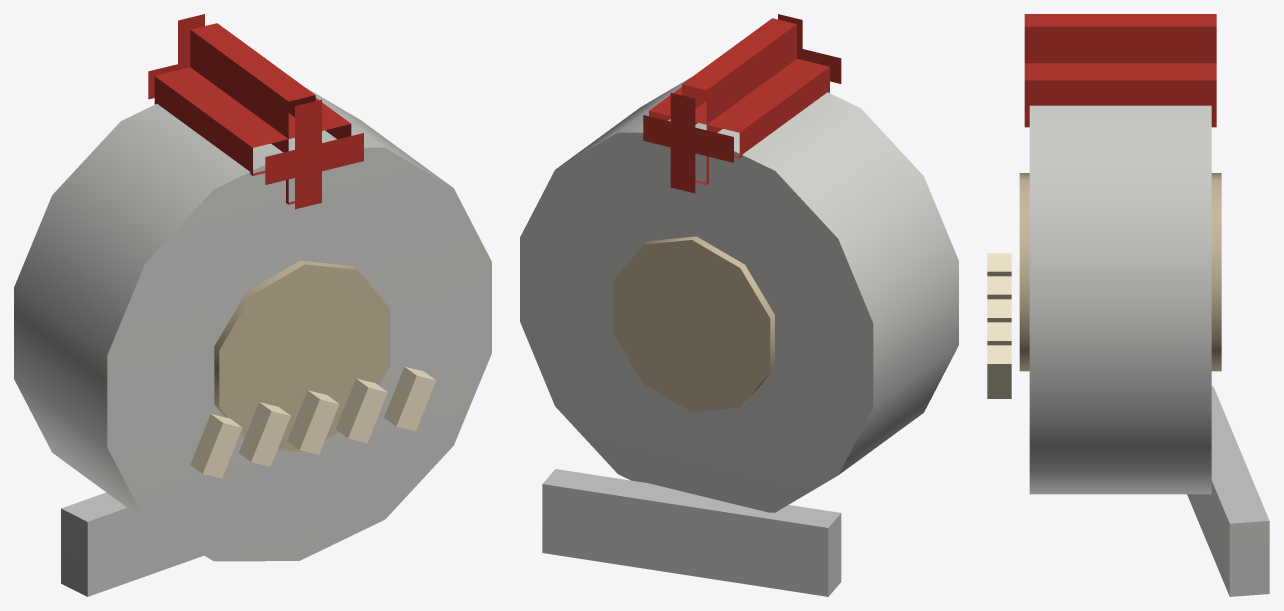
Rendered from item_bandage.glb.
3 renders of one model, left to right at view 1: azimuth 30°, elevation 25°; view 2: azimuth 150°, elevation 25°; view 3: azimuth 270°, elevation 25°, orthographic. The views are drawn at different scales.
Visible parts, largest first — view 1: item_bandage, item_bandage_detail; view 2: item_bandage; view 3: item_bandage, item_bandage_detail.
Boxes of the visible parts, x1,y1,x2,y2 form: item_bandage: (14, 14, 491, 596); item_bandage_detail: (190, 366, 436, 478); item_bandage: (520, 14, 958, 596); item_bandage: (1019, 14, 1269, 596); item_bandage_detail: (987, 253, 1011, 398).
Bounding box in the file's own units: 0.2145 × 0.2775 × 0.1397.
